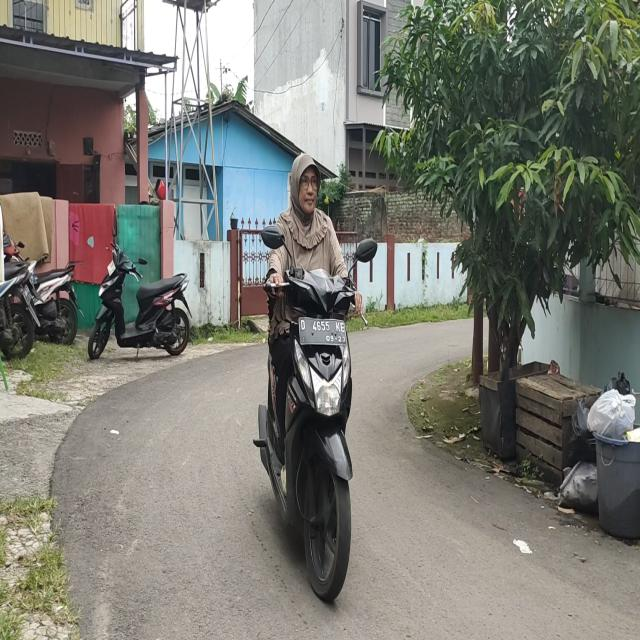no-helmet: (291, 151, 320, 220)
